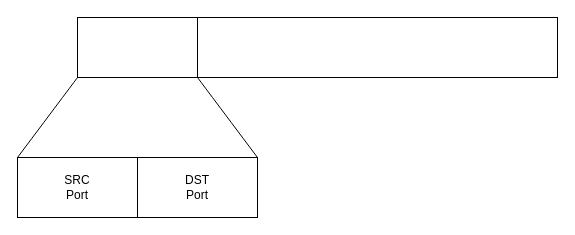
Image size: 575x235. Some labels were removed from this diagram. The centre of each missing label's shape, as x and y in pixels:
"cabecera TCP/UDP" belongs at point (137, 47).
"payload" belongs at point (377, 47).
